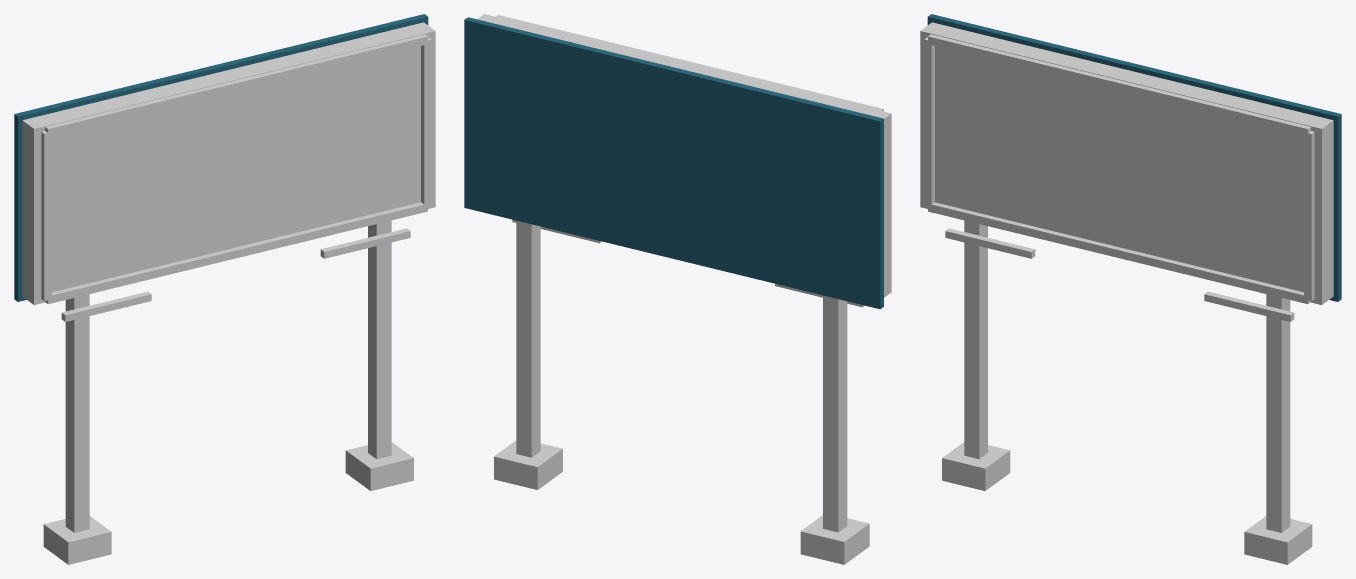
The model's file is decor_neon_sign.obj.
The picture shows the model from 3 angles, left to right: view 1: azimuth 30°, elevation 25°; view 2: azimuth 150°, elevation 25°; view 3: azimuth 330°, elevation 25°; orthographic projection.
Parts seen in each view (by area): view 1: Body; view 2: Body; view 3: Body.
Part boxes in pixels (x1,y1,x2,y2): Body: [14, 14, 435, 564]; Body: [464, 14, 891, 564]; Body: [920, 14, 1341, 564].
Size of the model in its own units: 1.9 by 1.96 by 0.2.
